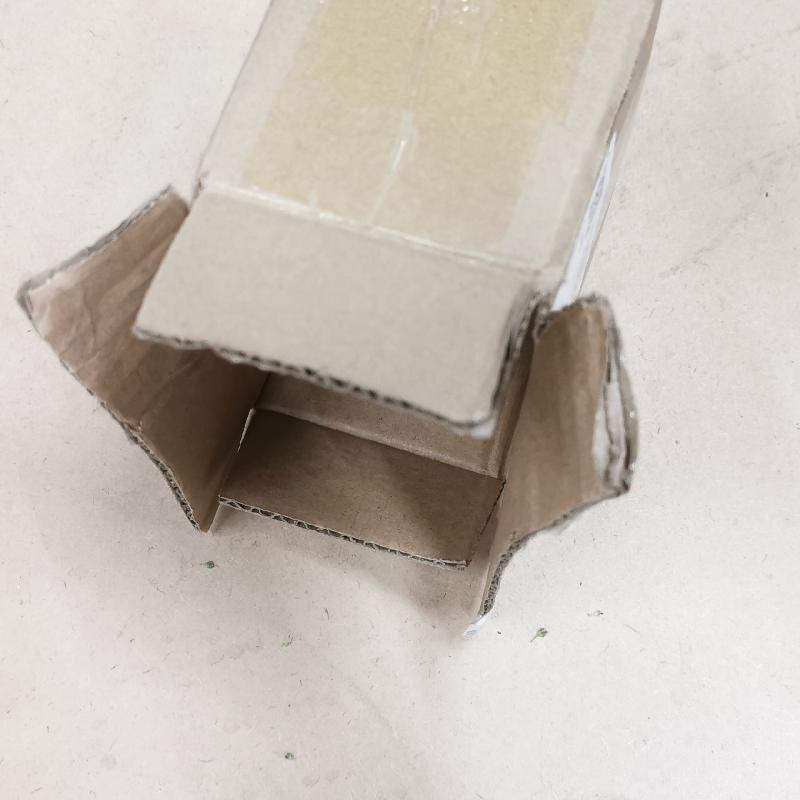boxes: (14, 2, 673, 632)
